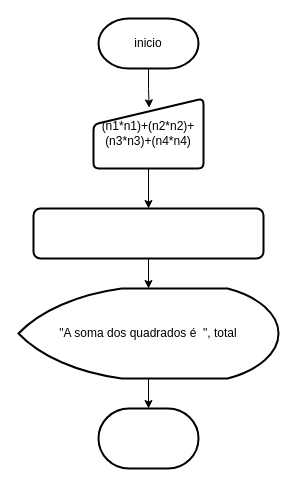
Image size: 296x486. Some labels were removed from this diagram. The box of each missing label's shape, as (x1, y1, x2, y2) in pixels:
convertido = valor_reais/valor_dolar: (32, 207, 264, 259)
fim: (97, 407, 199, 469)
